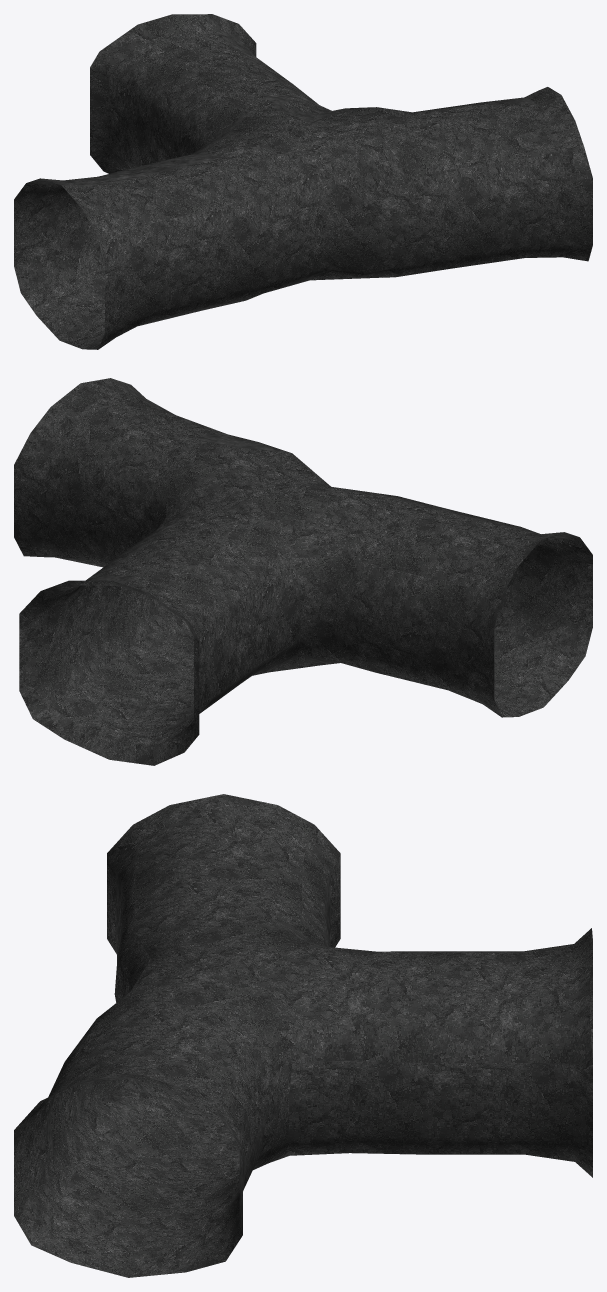
The model's file is CaveHallway3Way.glb.
3 views of the same model, one above another, from view 1: azimuth 30°, elevation 25°; view 2: azimuth 150°, elevation 25°; view 3: azimuth 270°, elevation 25° (orthographic). The views are drawn at different scales.
Visible parts, largest first — view 1: Cube.007; view 2: Cube.007; view 3: Cube.007.
Boxes of the visible parts, <box> form: Cube.007: <box>14,14,592,349</box>; Cube.007: <box>14,378,592,765</box>; Cube.007: <box>14,794,592,1277</box>.
Bounding box in the file's own units: 22.8 × 7.46 × 18.5.
1 material, 1 textured.
